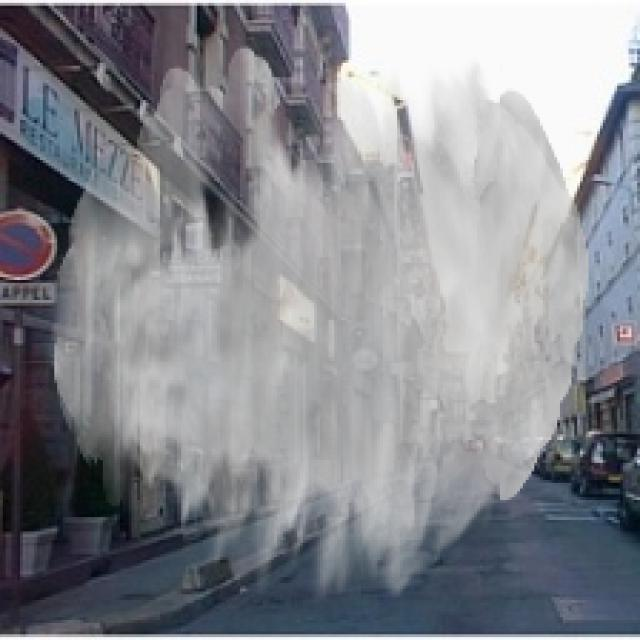smoke: (51, 46, 588, 603)
